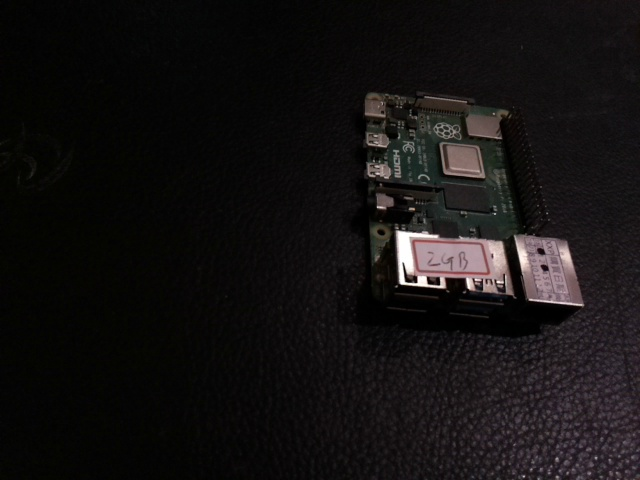pi4: (321, 60, 590, 329)
